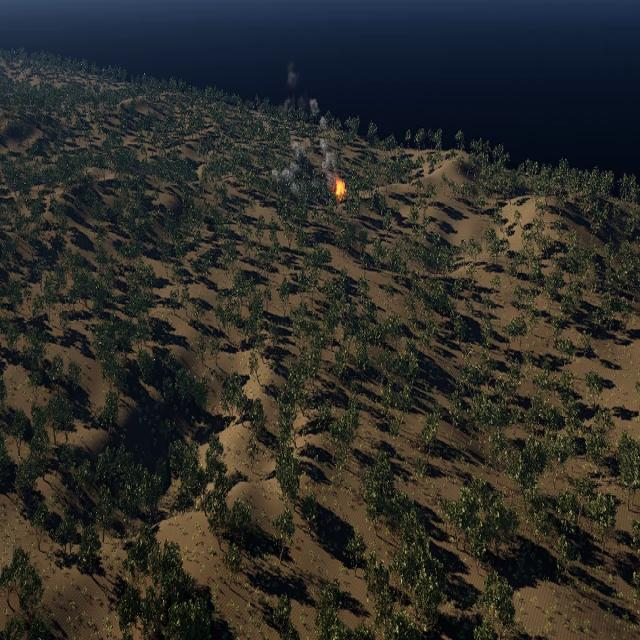fire: (335, 178, 346, 196)
smoke: (270, 138, 336, 189), (278, 59, 334, 113), (319, 115, 327, 132)
